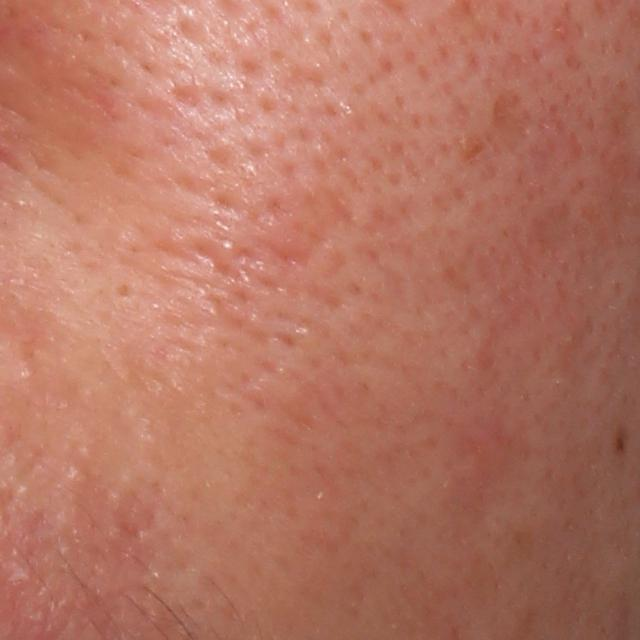nevus: (614, 434, 630, 459)
